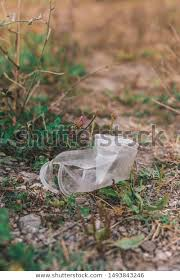plastic_bottle: (38, 133, 139, 198)
